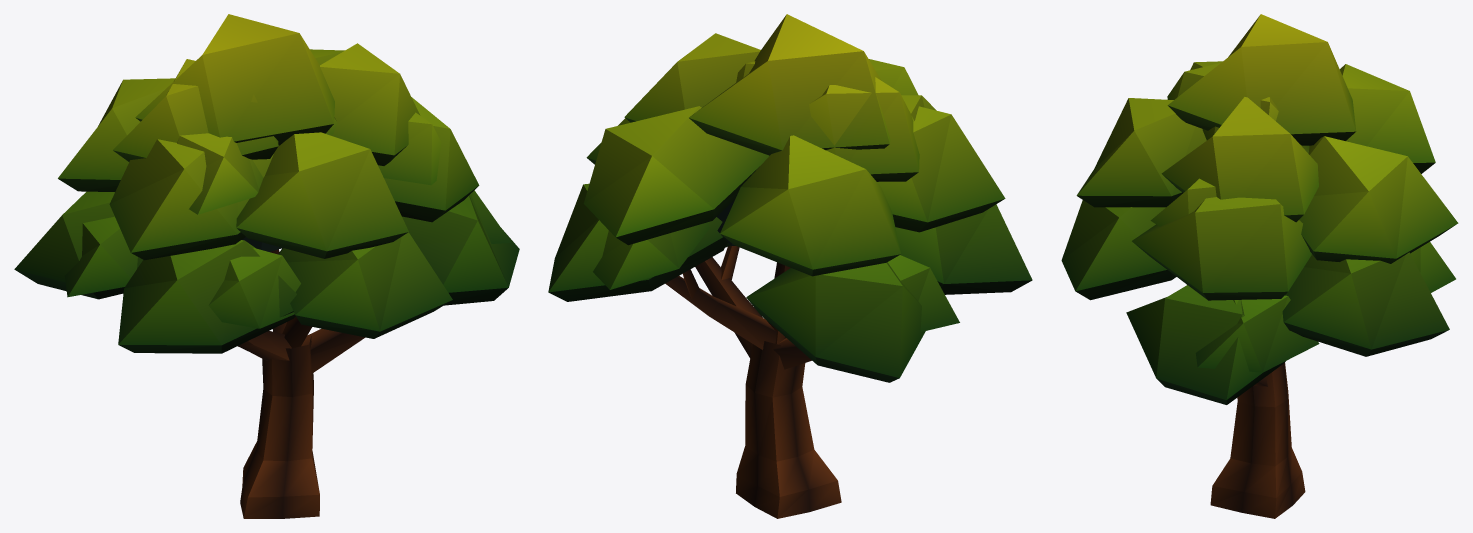
The model's file is oak_tree_mid.glb.
3 renders of one model, left to right at view 1: azimuth 30°, elevation 25°; view 2: azimuth 150°, elevation 25°; view 3: azimuth 270°, elevation 25°, orthographic. The views are drawn at different scales.
Visible parts, largest first — view 1: oak_tree_mid; view 2: oak_tree_mid; view 3: oak_tree_mid.
Part boxes in pixels (x1,y1,x2,y2): oak_tree_mid: (14, 14, 519, 518); oak_tree_mid: (548, 14, 1032, 518); oak_tree_mid: (1061, 14, 1458, 518).
Bounding box in the file's own units: 6.42 × 6.82 × 5.38.
